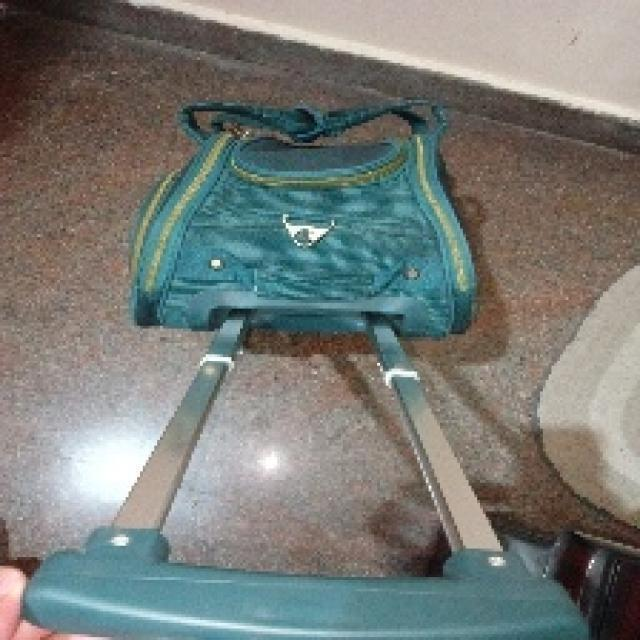Suitcase: (18, 87, 595, 640)
